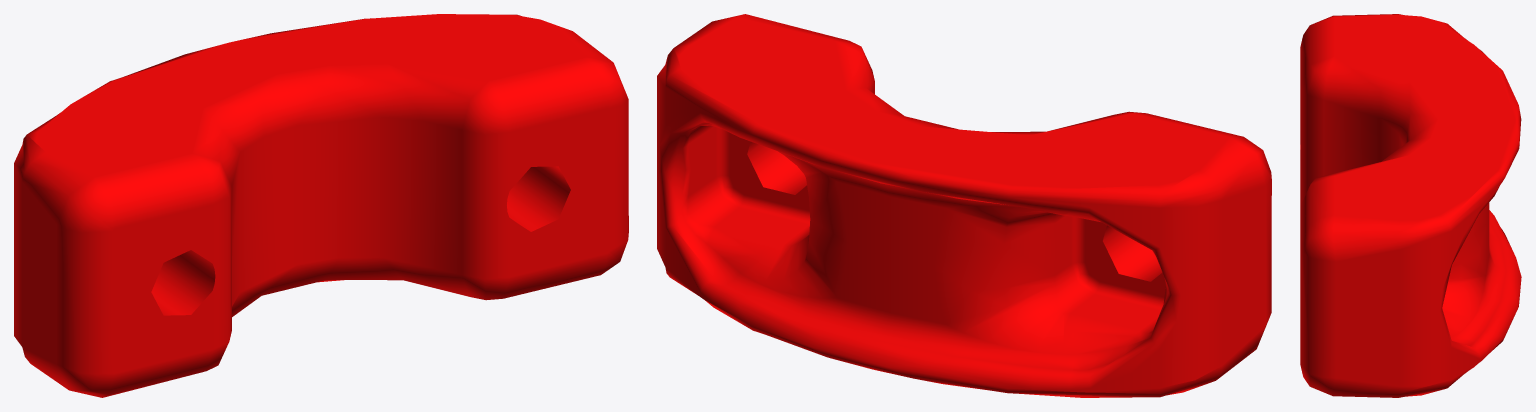
File: probem.gltf
3 views of the same model, side by side, from view 1: azimuth 30°, elevation 25°; view 2: azimuth 150°, elevation 25°; view 3: azimuth 270°, elevation 25° (orthographic). The views are drawn at different scales.
Visible parts, largest first — view 1: prueba_asm; view 2: prueba_asm; view 3: prueba_asm.
Boxes of the visible parts, <box> form: prueba_asm: <box>14,14,628,397</box>; prueba_asm: <box>657,14,1271,397</box>; prueba_asm: <box>1300,14,1521,397</box>.
Size of the model in its own units: 1.51 by 0.5555 by 0.6195.
